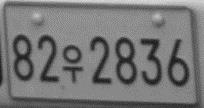2: (36, 33, 59, 83), (89, 36, 112, 85)
3: (140, 38, 162, 86)
6: (166, 38, 190, 87)
8: (114, 36, 137, 85), (12, 34, 33, 81)
우: (61, 43, 84, 84)
